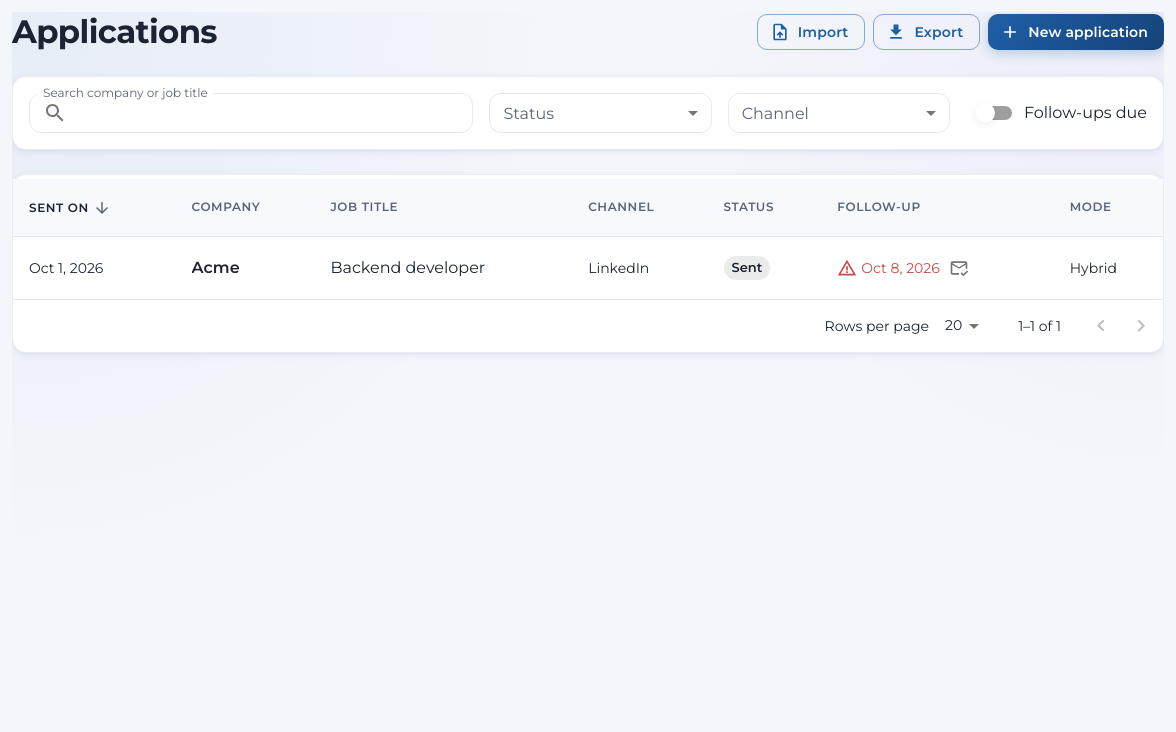
Test: ApplicationsPage › recording a follow-up › shows a translated error when the application no longer waits for an answer
Expected: the text "Acme" is shown, [192,258,240,277]
What coordinates should you click on to do the following:
click the button named "I followed up"
I would click on:
 (959, 268)
Its box is [944,253,974,283].
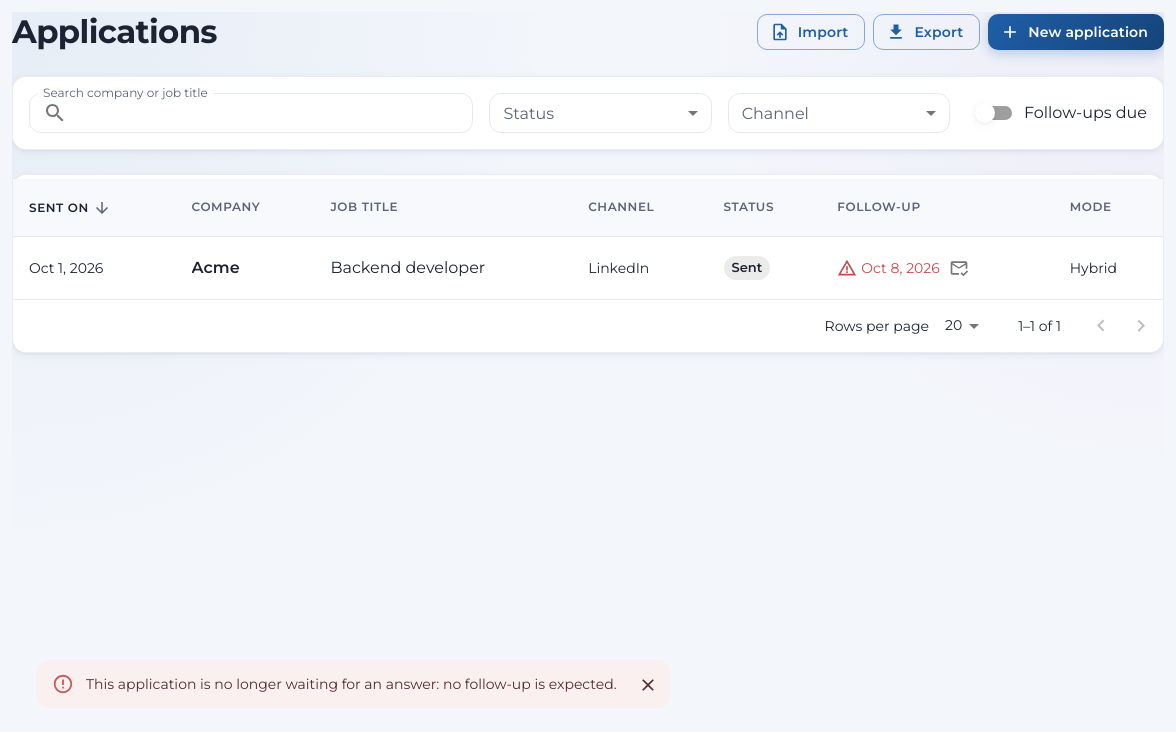
Expected: the message reads "This application is no longer waiting for an answer: no follow-up is expected.", [86,675,617,693]
